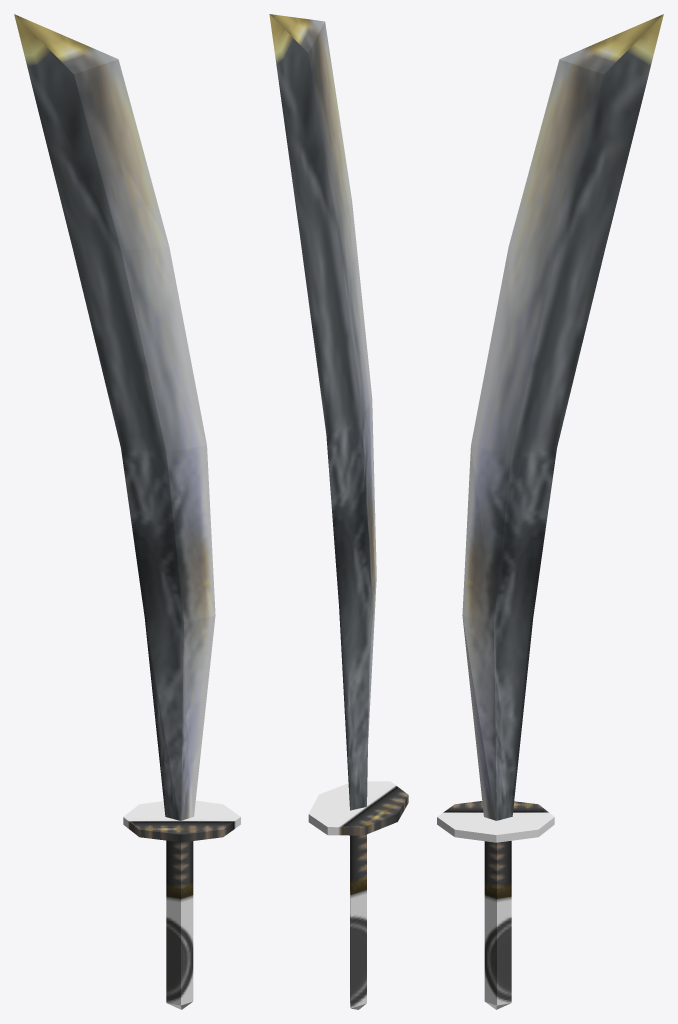
Rendered from blademaster02_1.obj.
3 renders of one model, left to right at view 1: azimuth 90°, elevation 25°; view 2: azimuth 150°, elevation 25°; view 3: azimuth 270°, elevation 25°, orthographic. The views are drawn at different scales.
Visible parts, largest first — view 1: blademaster02_1; view 2: blademaster02_1; view 3: blademaster02_1.
Boxes of the visible parts, x1,y1,x2,y2 form: blademaster02_1: [14, 14, 240, 1009]; blademaster02_1: [269, 14, 408, 1009]; blademaster02_1: [437, 14, 663, 1009].
Bounding box in the file's own units: 0.1388 × 1.79 × 0.3688.
